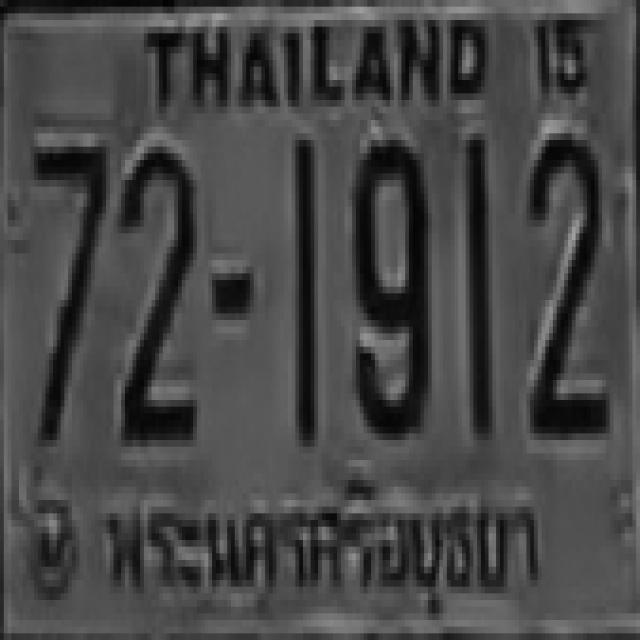1: (462, 134, 489, 434), (292, 137, 314, 443)
2: (118, 140, 193, 440), (527, 130, 602, 430)
7: (30, 140, 106, 440)
9: (352, 134, 424, 434)
Ayutthaya: (95, 467, 550, 620)
